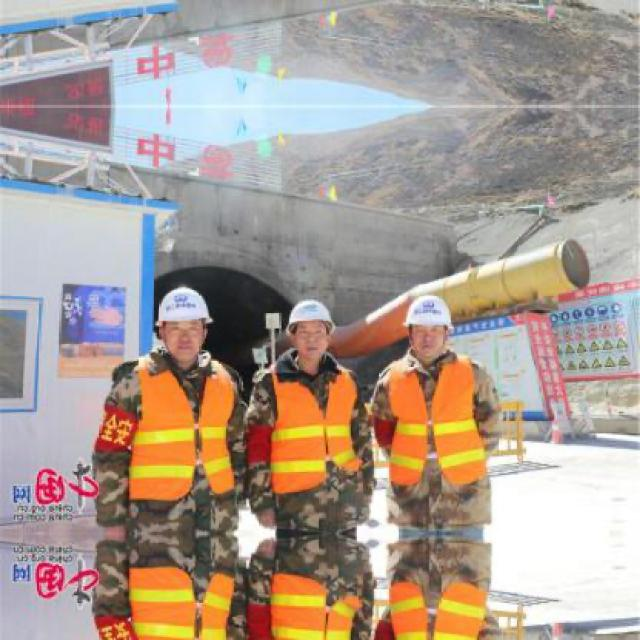con casco: (110, 282, 224, 421), (388, 290, 489, 397), (263, 304, 351, 374)
